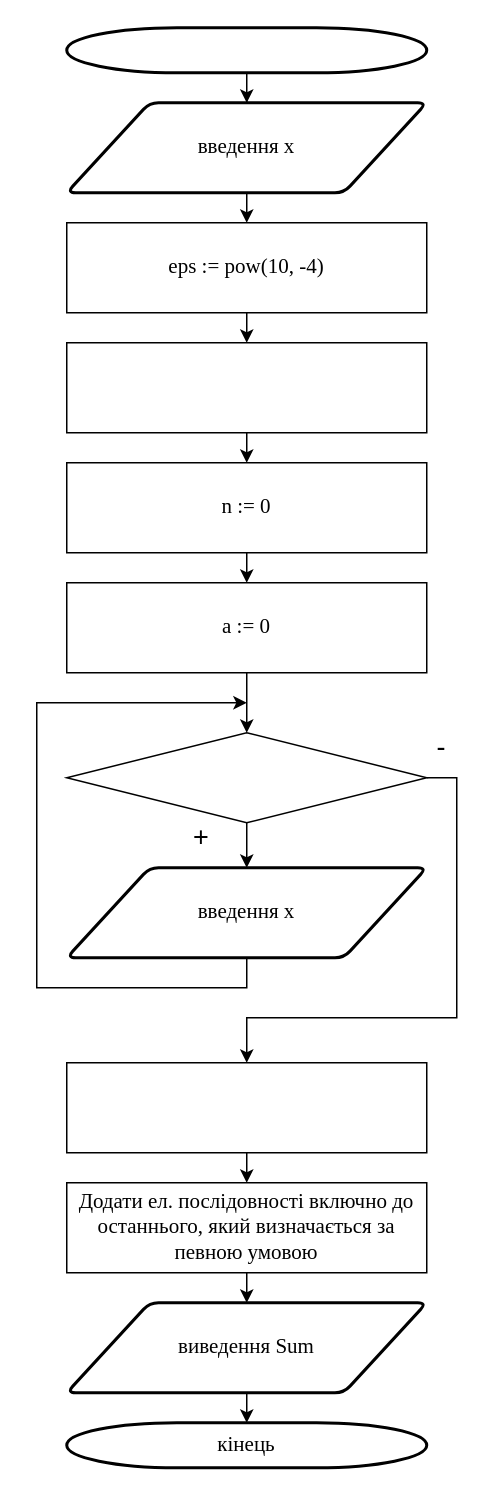
This 498x1494 diagram has some shape labels left out. The shapes that lost their labels are listed below. From the top down, each one's centre as x and y in pixels, then its label:
point (246, 50): початок
point (246, 387): Sum := 0
point (246, 777): x <= -2 або x >= 2
point (246, 1107): Знайти перші десять членів послідовності з додаванням їх до змінної суми
